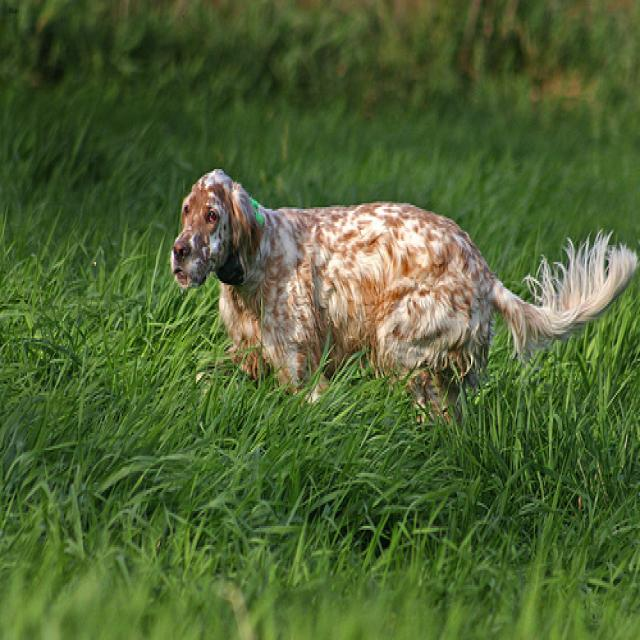dog-english_setter: (159, 161, 637, 431)
